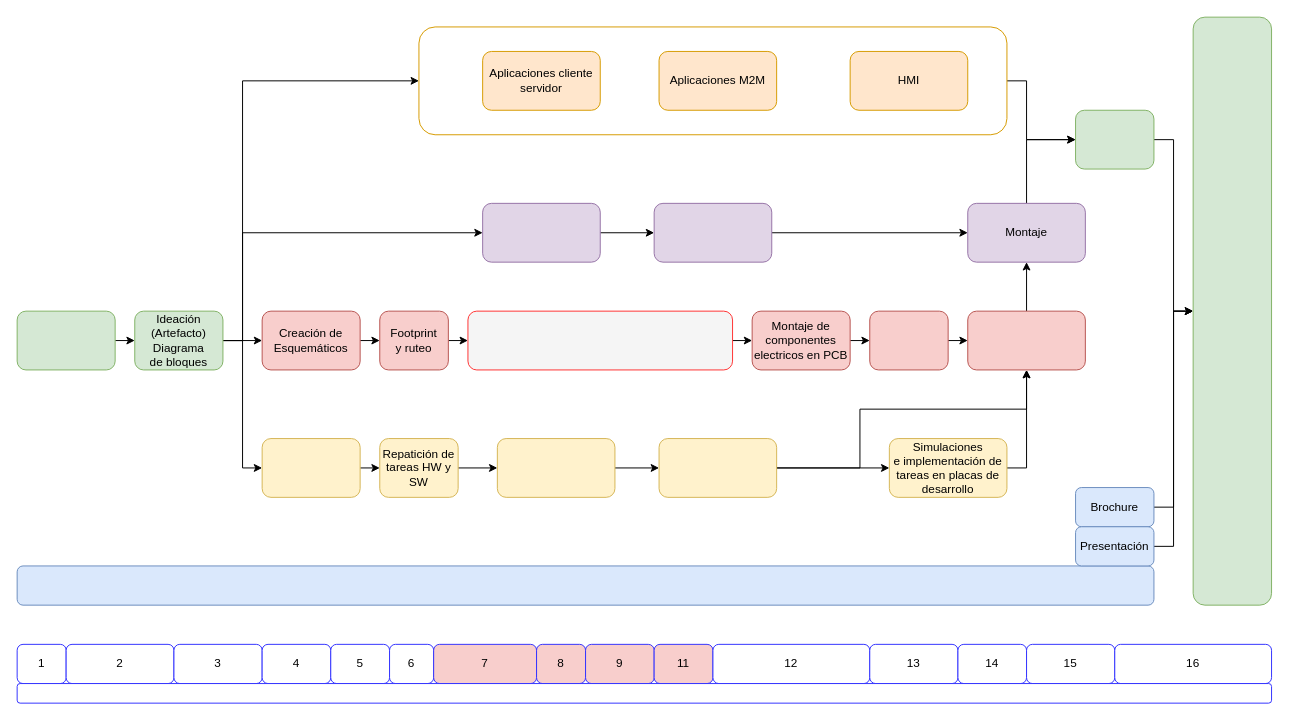
Some shapes in this 1289 by 720 pixel diagram are drawn without their labels. Here are the shapes that lost their labels. From the top down, the centre of each, then its label:
the point at 1114,139: Demo
the point at 541,232: Diseño de Caja
the point at 712,232: Fabricación
the point at 1232,310: Presentación del proyecto
the point at 65,340: Situación a enfrentar (requerimientos y alcance)
the point at 600,340: Fabricación de PCB
the point at 908,340: Pruebas y correciones
the point at 1026,340: Implementación de tareas en el sistema (validación)
the point at 310,467: Diagramas de flujo de tareas
the point at 555,467: Selección del S.O. RTOS/Interprete
the point at 717,467: Creación de tareas en el sistema seleccionado
the point at 585,585: Documentación del proceso en GIT
the point at 644,693: Semanas
